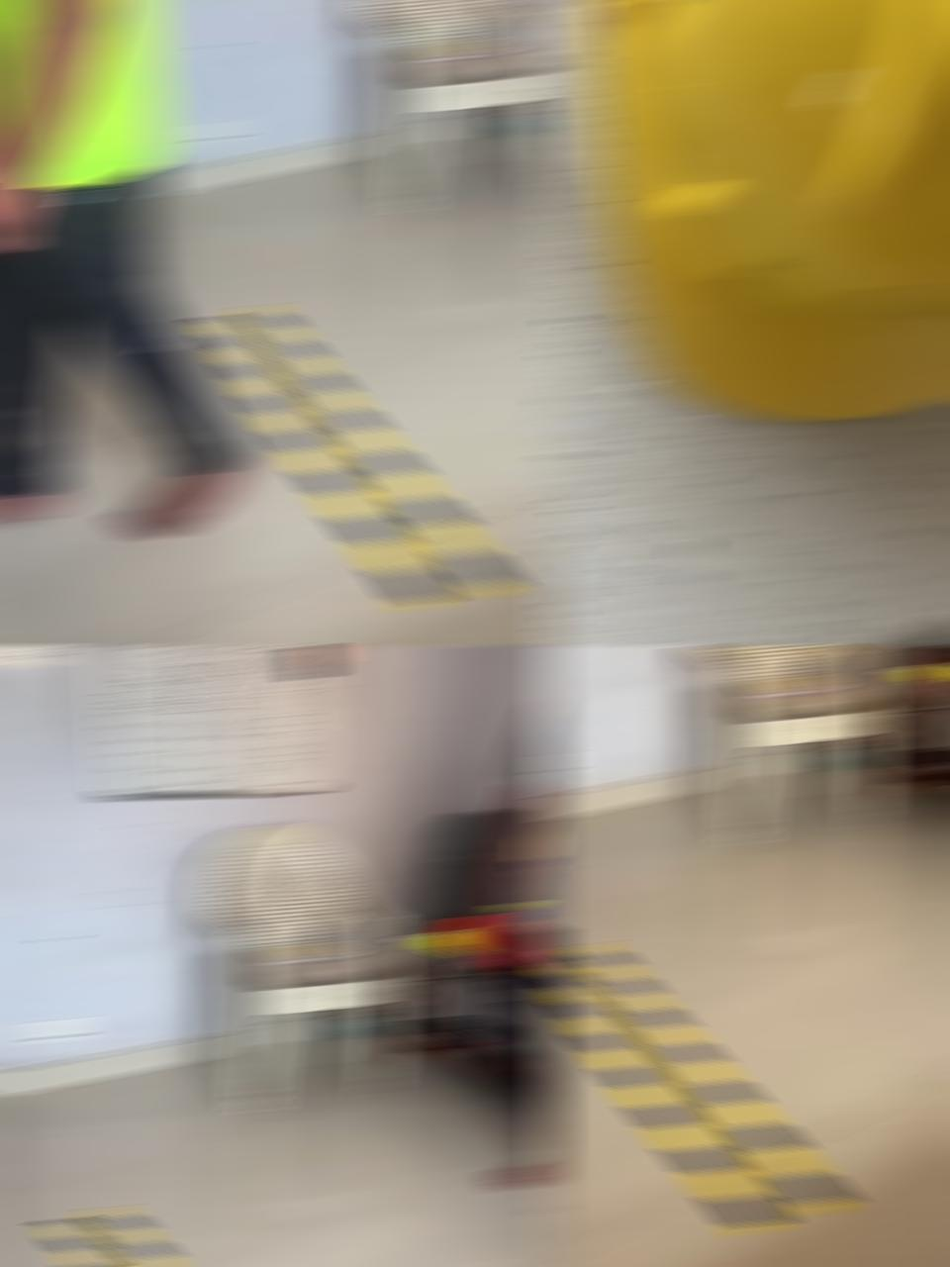BorderLine: (196, 303, 519, 610), (572, 942, 849, 1217), (540, 955, 781, 1234), (43, 1205, 362, 1267)
Helmet: (586, 0, 950, 422)
No_Vest: (496, 683, 560, 942)
Person: (0, 0, 255, 538), (470, 684, 560, 1223)
Vest: (0, 0, 170, 188)
